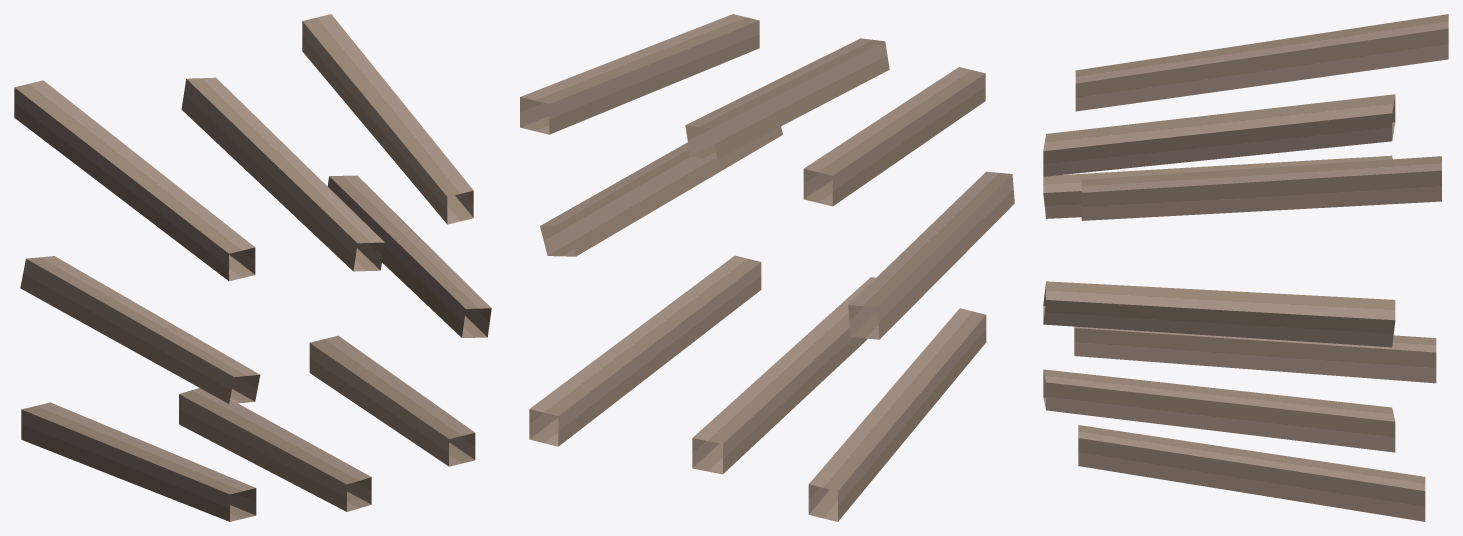
The model's file is 250_radiotower_006.gltf.
The picture shows the model from 3 angles, left to right: view 1: azimuth 30°, elevation 25°; view 2: azimuth 150°, elevation 25°; view 3: azimuth 270°, elevation 25°; orthographic projection.
Parts seen in each view (by area): view 1: radiotower_006; view 2: radiotower_006; view 3: radiotower_006.
Boxes of the visible parts, <box> form: radiotower_006: <box>14,14,491,521</box>; radiotower_006: <box>520,14,1014,521</box>; radiotower_006: <box>1043,14,1448,521</box>.
Size of the model in its own units: 4.87 by 4.83 by 4.98.
1 material, 1 textured.
